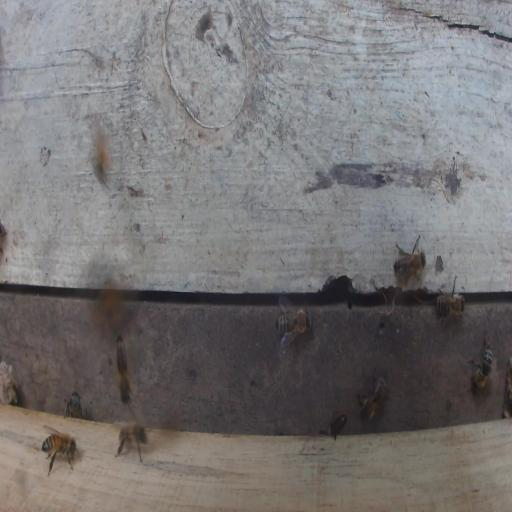nonpollenbee: (274, 299, 312, 353), (393, 233, 426, 282), (42, 431, 77, 477), (91, 118, 116, 182), (356, 374, 389, 422), (115, 420, 149, 462), (468, 335, 493, 390), (436, 275, 466, 320), (116, 332, 132, 405), (94, 288, 124, 326), (322, 411, 348, 439), (64, 391, 82, 418)
